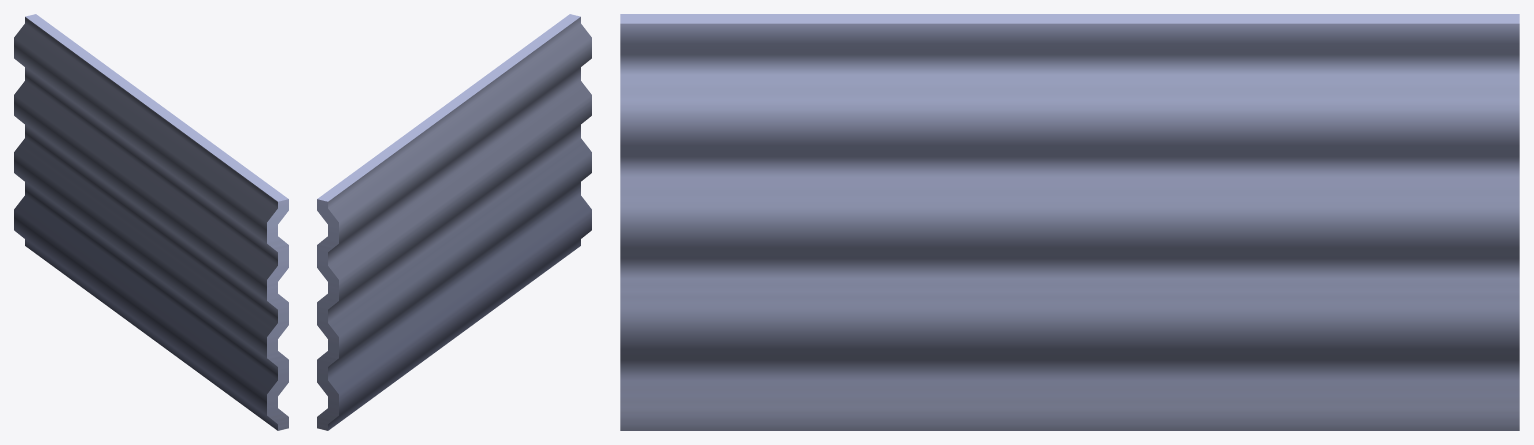
The model's file is Corrugated Iron Sheet.glb.
3 renders of one model, left to right at view 1: azimuth 30°, elevation 25°; view 2: azimuth 150°, elevation 25°; view 3: azimuth 270°, elevation 25°, orthographic. The views are drawn at different scales.
Visible parts, largest first — view 1: plating-wide; view 2: plating-wide; view 3: plating-wide.
Boxes of the visible parts, box(x1,y1,x2,y2) form: plating-wide: box(14, 14, 288, 430); plating-wide: box(317, 14, 591, 430); plating-wide: box(620, 14, 1519, 430).
Size of the model in its own units: 0.1 by 1 by 2.
Materials: 1 (1 with a texture image).
